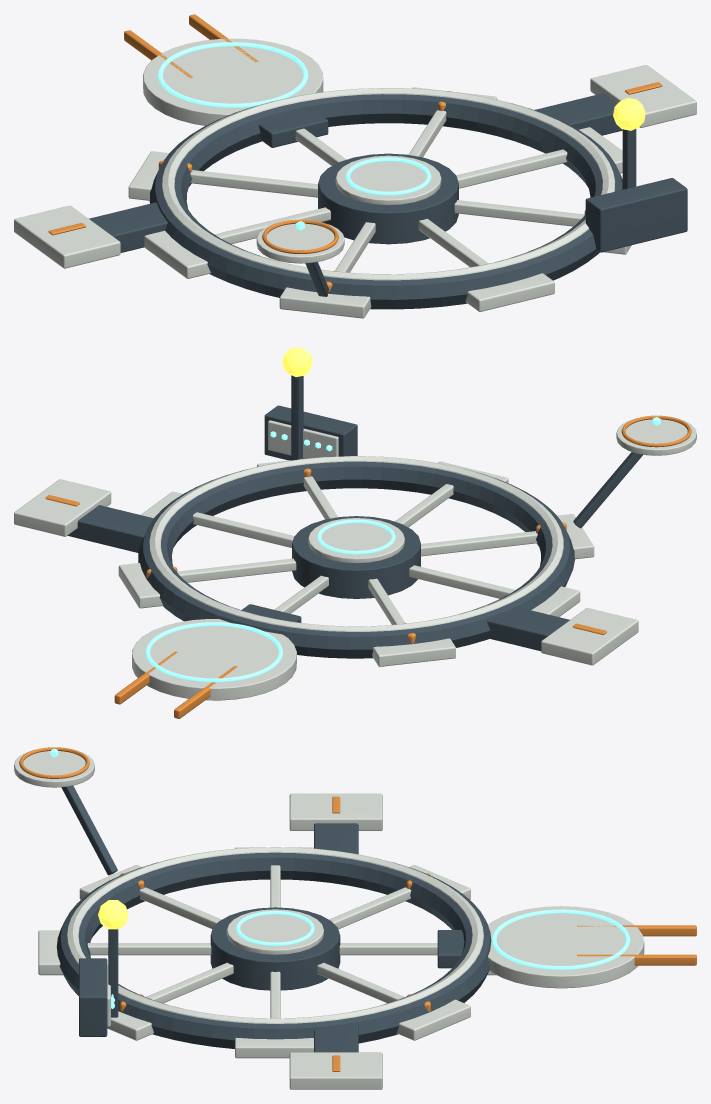
File: roost_station.glb
3 views of the same model, one above another, from view 1: azimuth 30°, elevation 25°; view 2: azimuth 150°, elevation 25°; view 3: azimuth 270°, elevation 25° (orthographic). The views are drawn at different scales.
Parts seen in each view (by area): view 1: Core structural ring, Docking pad, Core ceramic rim, Central hub, Fabricator rack, Hangar deck, Hub cap, Hangar deck.001, Long range dish, Hangar arm, Hangar arm.001, Armor segment.005 (+20 smaller); view 2: Core structural ring, Docking pad, Core ceramic rim, Central hub, Hangar deck, Hangar deck.001, Hub cap, Hangar arm.001, Hangar arm, Long range dish, Fabricator rack, Armor segment.003 (+20 smaller); view 3: Core structural ring, Docking pad, Core ceramic rim, Central hub, Hangar deck.001, Hangar deck, Hub cap, Fabricator rack, Long range dish, Armor segment.001, Radial spoke.006, Armor segment (+18 smaller).
Part boxes in pixels (x1,y1,x2,y2): Core structural ring: (149, 94, 622, 309); Docking pad: (143, 38, 323, 125); Core ceramic rim: (162, 88, 615, 280); Central hub: (318, 153, 458, 244); Fabricator rack: (585, 178, 687, 252); Hangar deck: (14, 205, 120, 268); Hub cap: (335, 155, 441, 205); Hangar deck.001: (590, 65, 696, 127); Long range dish: (256, 222, 344, 263); Hangar arm: (89, 202, 167, 252); Hangar arm.001: (535, 93, 622, 135); Armor segment.005: (279, 287, 371, 318); Core structural ring: (138, 461, 574, 658); Docking pad: (132, 619, 296, 700); Core ceramic rim: (149, 456, 563, 631); Central hub: (292, 516, 420, 598); Hangar deck: (541, 608, 638, 665); Hangar deck.001: (14, 479, 111, 536); Hub cap: (308, 518, 404, 563); Hangar arm.001: (67, 505, 153, 552); Hangar arm: (487, 607, 569, 651); Long range dish: (616, 419, 696, 455); Fabricator rack: (264, 405, 357, 460); Armor segment.003: (372, 638, 455, 666); Core structural ring: (56, 852, 491, 1048); Docking pad: (488, 906, 644, 988); Core ceramic rim: (67, 847, 483, 1023); Central hub: (210, 907, 340, 990); Hangar deck.001: (289, 1052, 382, 1089); Hangar deck: (289, 793, 382, 830); Hub cap: (226, 909, 323, 954); Fabricator rack: (79, 958, 107, 1036); Long range dish: (14, 749, 94, 787); Armor segment.001: (396, 999, 470, 1040); Radial spoke.006: (87, 943, 211, 955); Armor segment: (235, 1037, 313, 1058).
Size of the model in its own units: 16.6 by 3.6 by 16.85.
